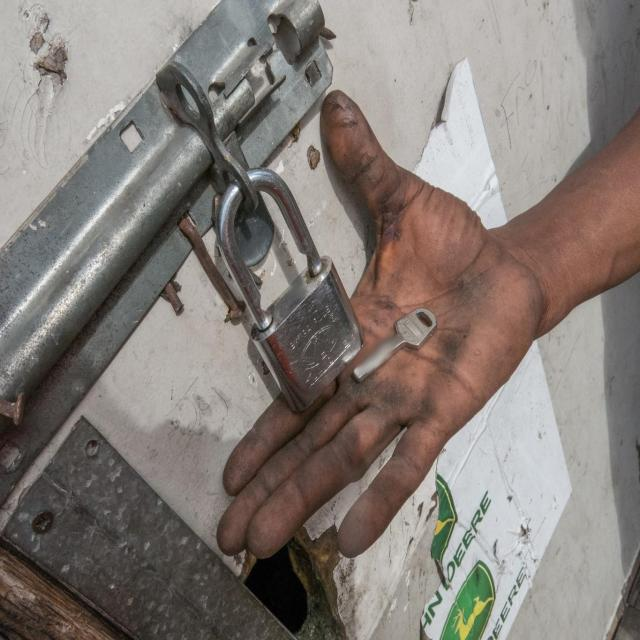Frontdoor keys: (340, 303, 451, 405)
